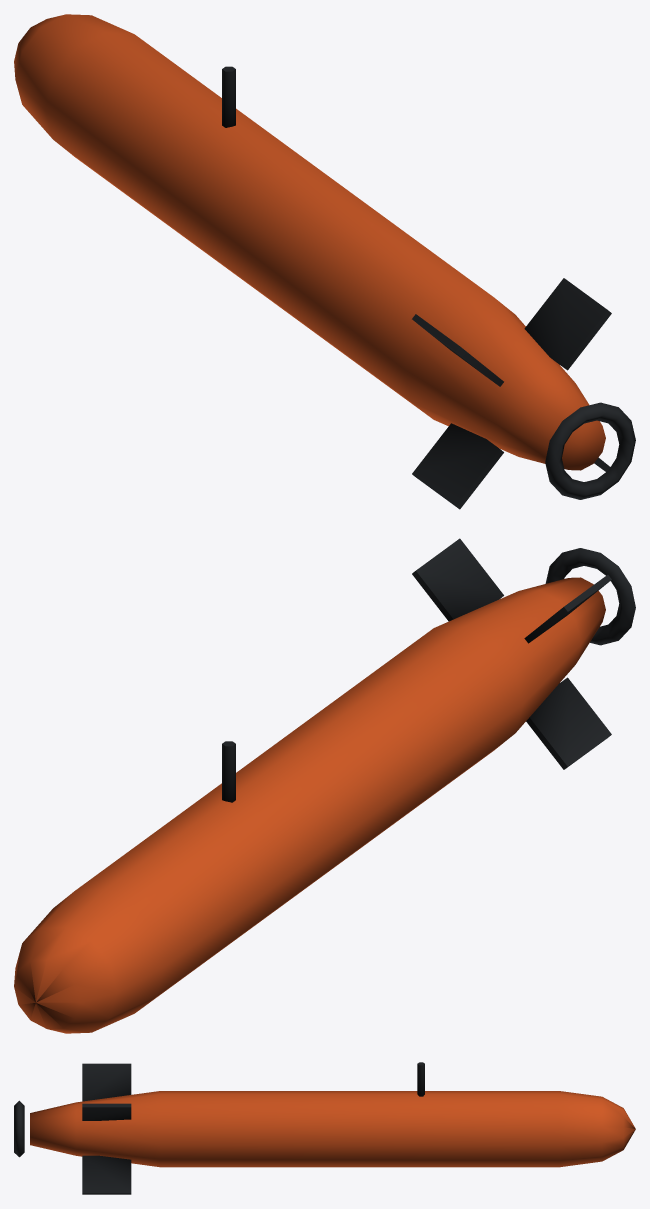
Rendered from auv_LOD0.glb.
3 renders of one model, top to bottom at view 1: azimuth 30°, elevation 25°; view 2: azimuth 150°, elevation 25°; view 3: azimuth 270°, elevation 25°, orthographic. The views are drawn at different scales.
Visible parts, largest first — view 1: Hull, Rubber; view 2: Hull, Rubber; view 3: Hull, Rubber.
Boxes of the visible parts, bbox=[...] form: Hull: bbox=[14, 14, 605, 470]; Rubber: bbox=[222, 66, 635, 509]; Hull: bbox=[14, 577, 605, 1033]; Rubber: bbox=[222, 538, 635, 802]; Hull: bbox=[30, 1091, 635, 1167]; Rubber: bbox=[14, 1062, 424, 1194].
Size of the model in its own units: 0.6534 by 0.7967 by 4.06.
